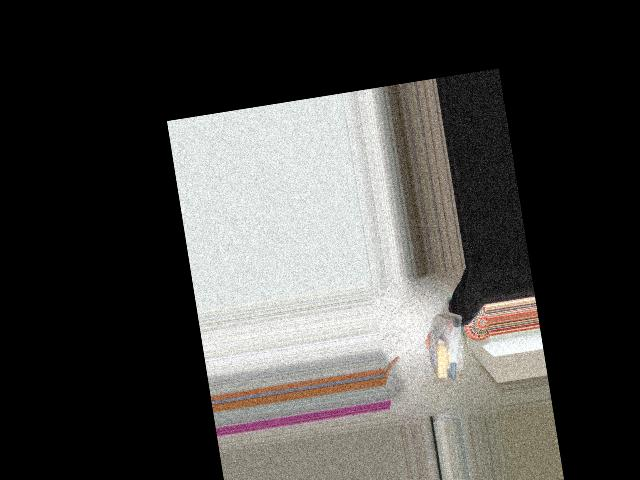cheese: (422, 311, 473, 383)
